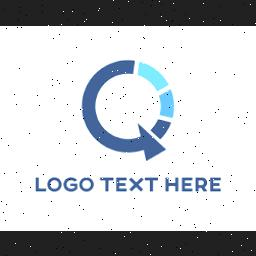e: (116, 174, 128, 192)
g: (62, 174, 78, 192)
h: (164, 174, 180, 192)
l: (32, 174, 48, 194)
o: (79, 174, 95, 192)
q: (74, 55, 180, 163)
r: (194, 176, 208, 192)
t: (100, 176, 114, 194)
x: (128, 176, 146, 192)
